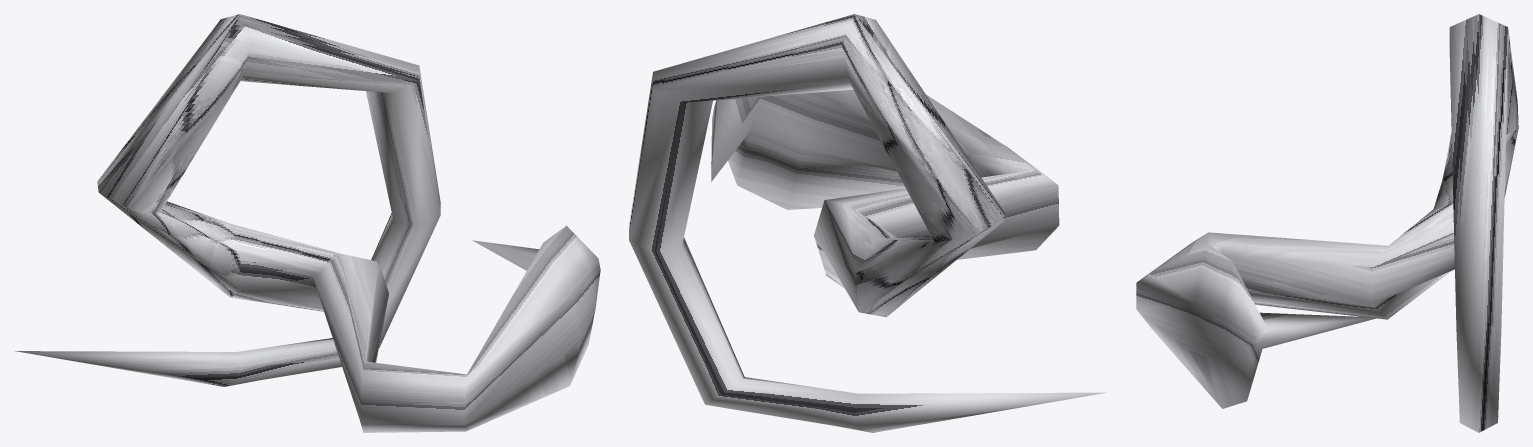
The model's file is snake_000014.obj.
The picture shows the model from 3 angles, left to right: view 1: azimuth 30°, elevation 25°; view 2: azimuth 150°, elevation 25°; view 3: azimuth 270°, elevation 25°; orthographic projection. The views are drawn at different scales.
Visible parts, largest first — view 1: Cylinder; view 2: Cylinder; view 3: Cylinder.
Boxes of the visible parts, <box> form: Cylinder: <box>15,14,600,432</box>; Cylinder: <box>629,14,1106,432</box>; Cylinder: <box>1136,14,1518,432</box>.
Size of the model in its own units: 2.91 by 2.24 by 2.17.
